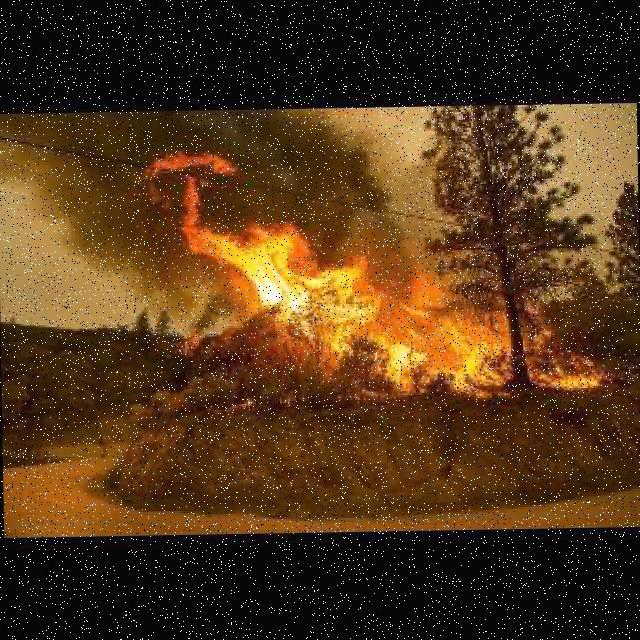Fire: (139, 143, 607, 397)
